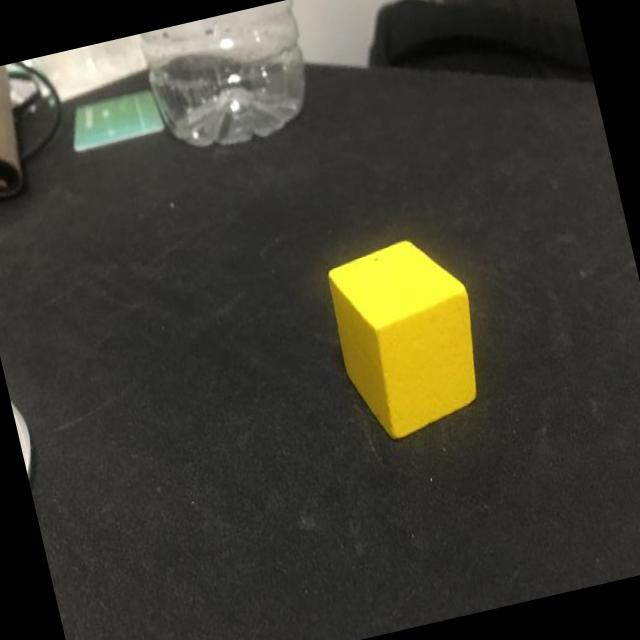yellow: (319, 228, 496, 450)
